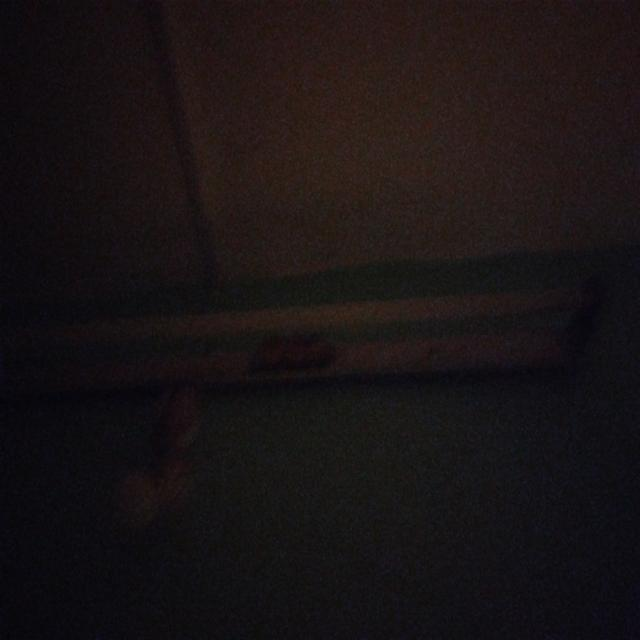tubelight_off: (0, 274, 613, 403)
